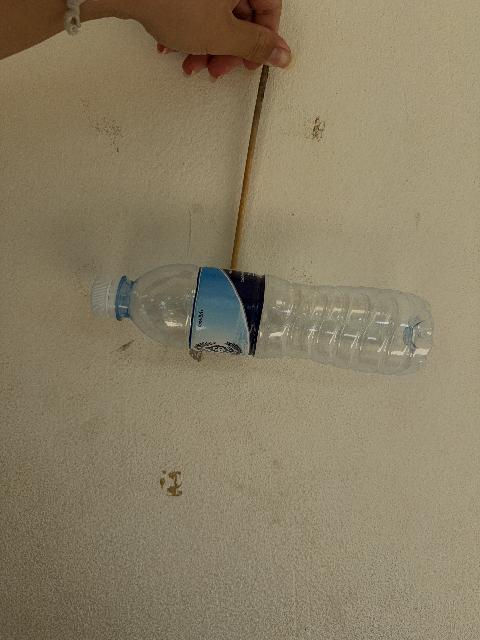bottle: (90, 265, 432, 374)
